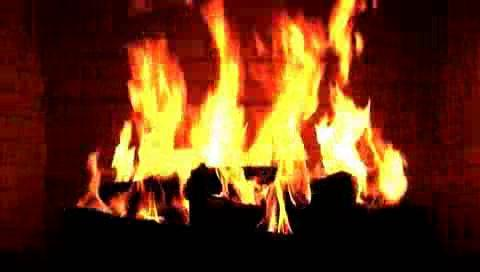fire: (101, 12, 393, 209)
